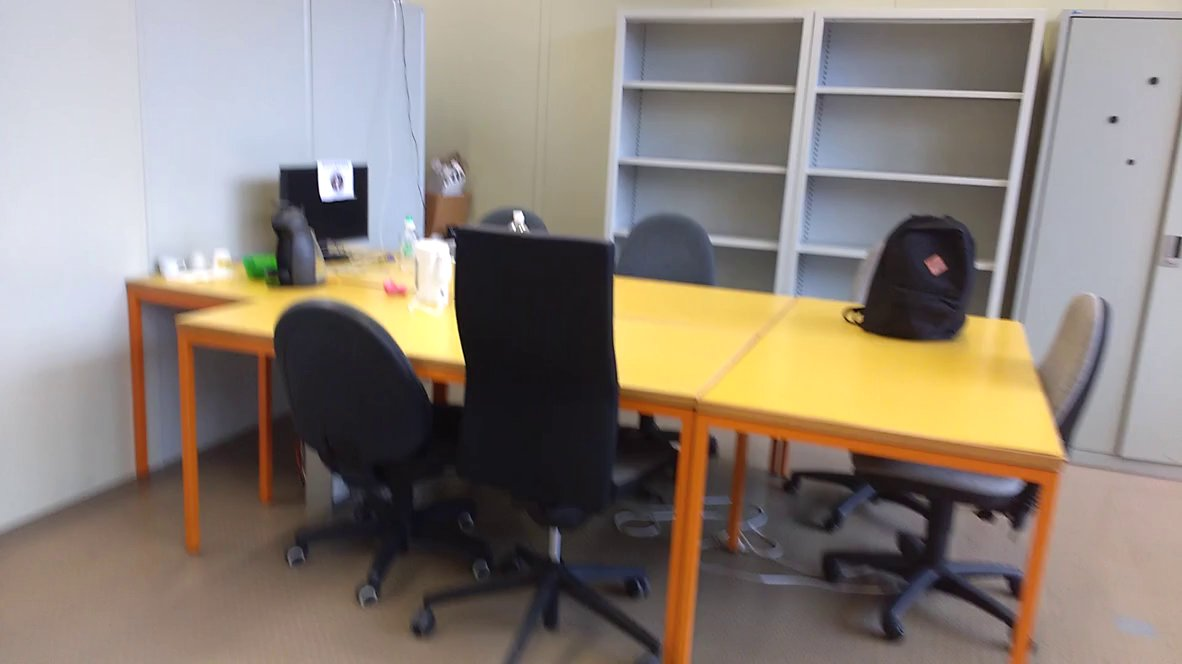bag: (842, 204, 983, 347)
chair: (433, 223, 690, 664), (877, 278, 1118, 652), (259, 288, 502, 657), (612, 207, 723, 316)
